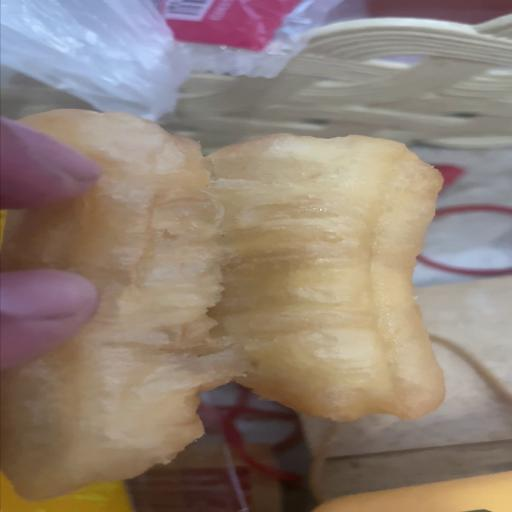street_golden_defect: (0, 123, 447, 511)
